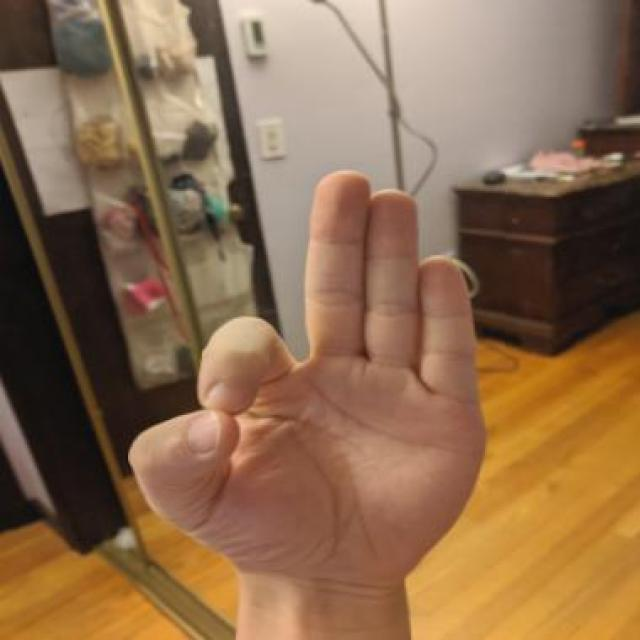F: (116, 162, 505, 600)
